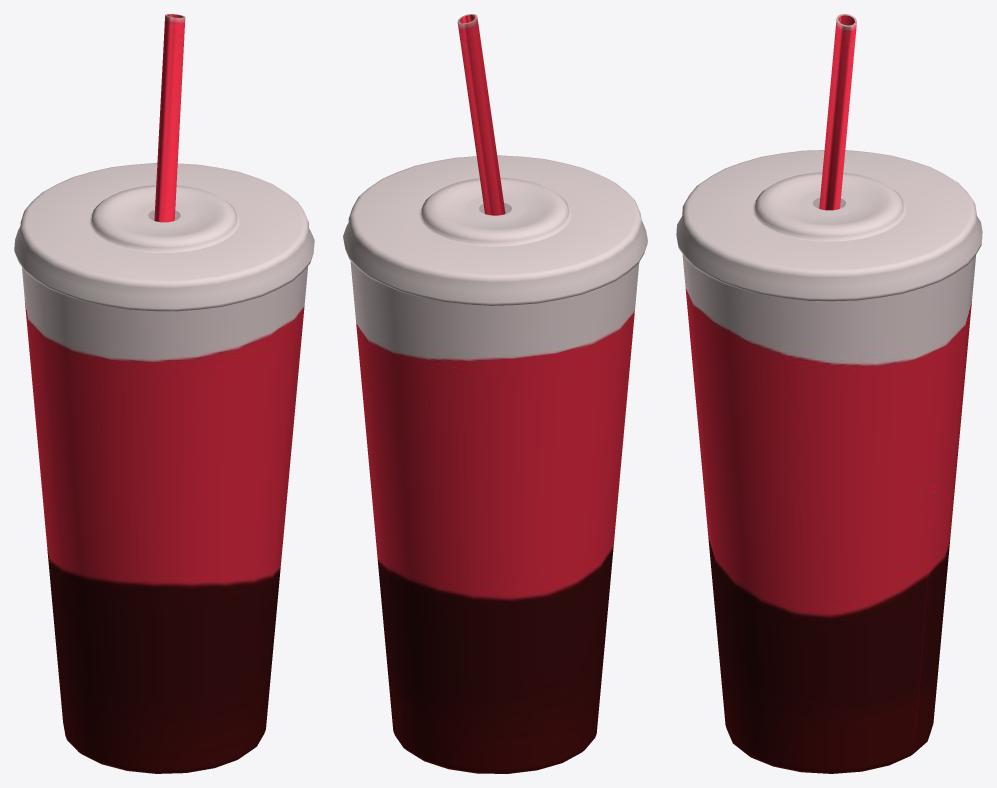
Rendered from prop_coke.glb.
3 renders of one model, left to right at view 1: azimuth 30°, elevation 25°; view 2: azimuth 150°, elevation 25°; view 3: azimuth 270°, elevation 25°, orthographic. The views are drawn at different scales.
Visible parts, largest first — view 1: coke_cup.002, coke_cup.003; view 2: coke_cup.002, coke_cup.003; view 3: coke_cup.002, coke_cup.003.
Part boxes in pixels (x1,y1,x2,y2): coke_cup.002: (22, 14, 307, 773); coke_cup.003: (14, 163, 314, 311); coke_cup.002: (350, 14, 639, 773); coke_cup.003: (343, 155, 647, 305); coke_cup.002: (682, 14, 975, 773); coke_cup.003: (676, 150, 982, 301).
Size of the model in its own units: 0.1421 by 0.3712 by 0.1421.
1 material, 1 textured.
